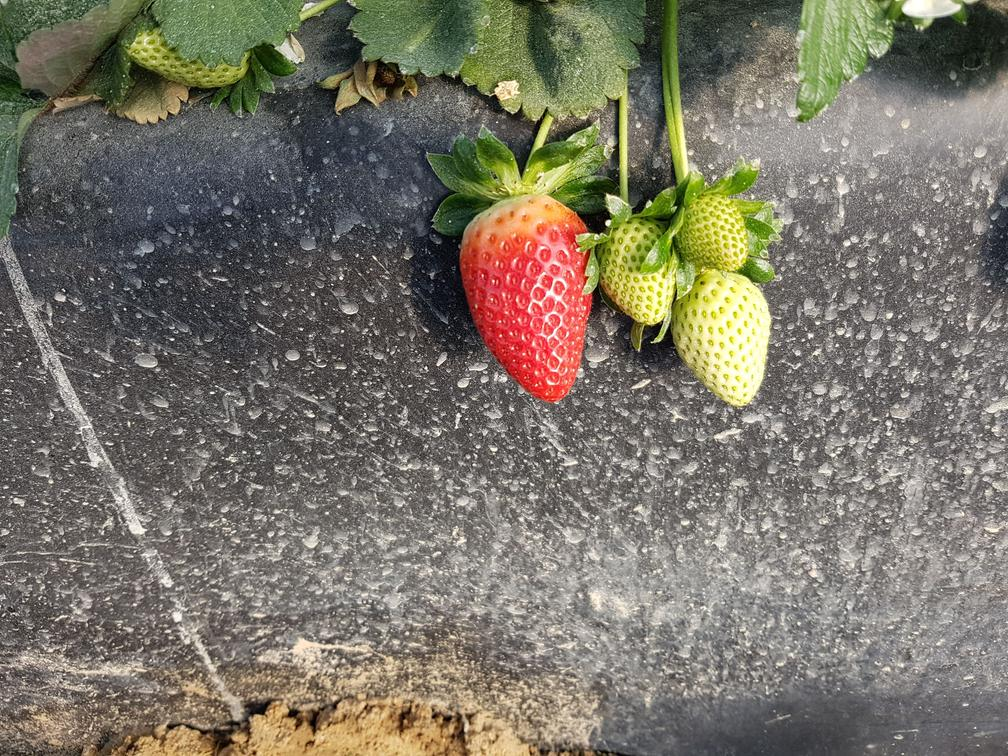Ripe: (455, 186, 608, 413)
Unripe: (675, 272, 782, 418), (601, 225, 679, 327), (679, 191, 760, 265)
